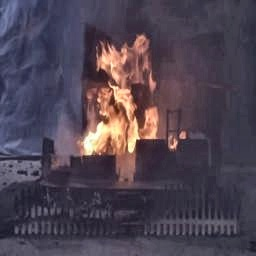fire: (81, 37, 163, 162)
